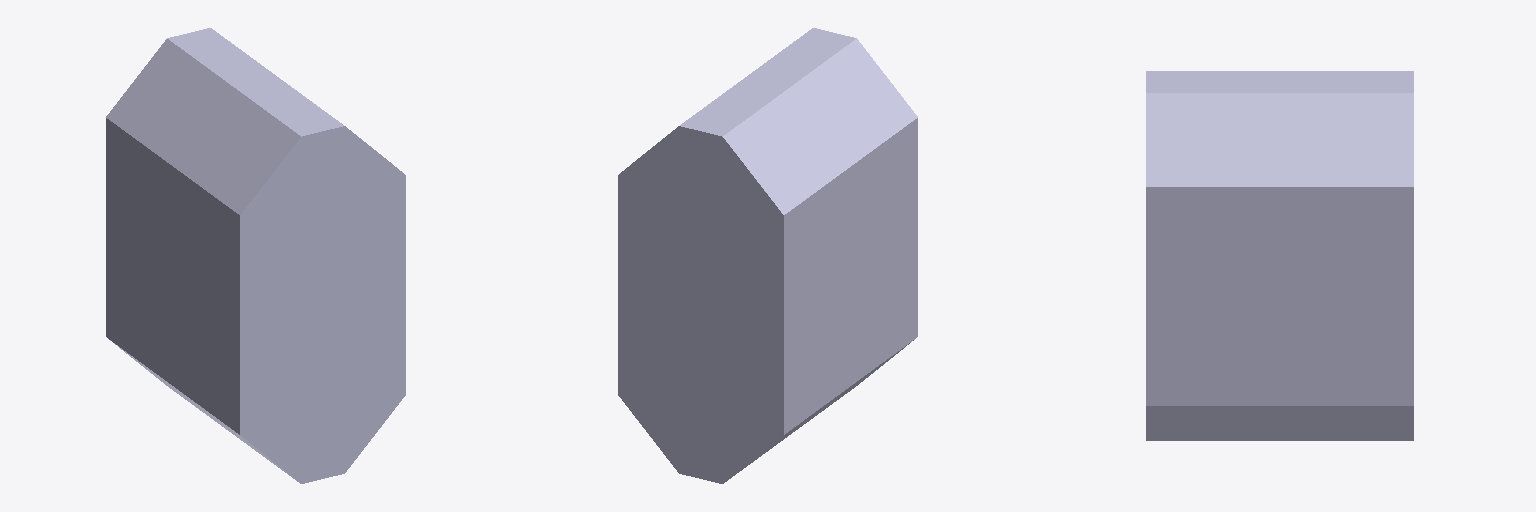
Rendered from moonstone.obj.
The picture shows the model from 3 angles: view 1: azimuth 30°, elevation 25°; view 2: azimuth 150°, elevation 25°; view 3: azimuth 270°, elevation 25°; orthographic projection.
Size of the model in its own units: 1 by 2 by 1.4.